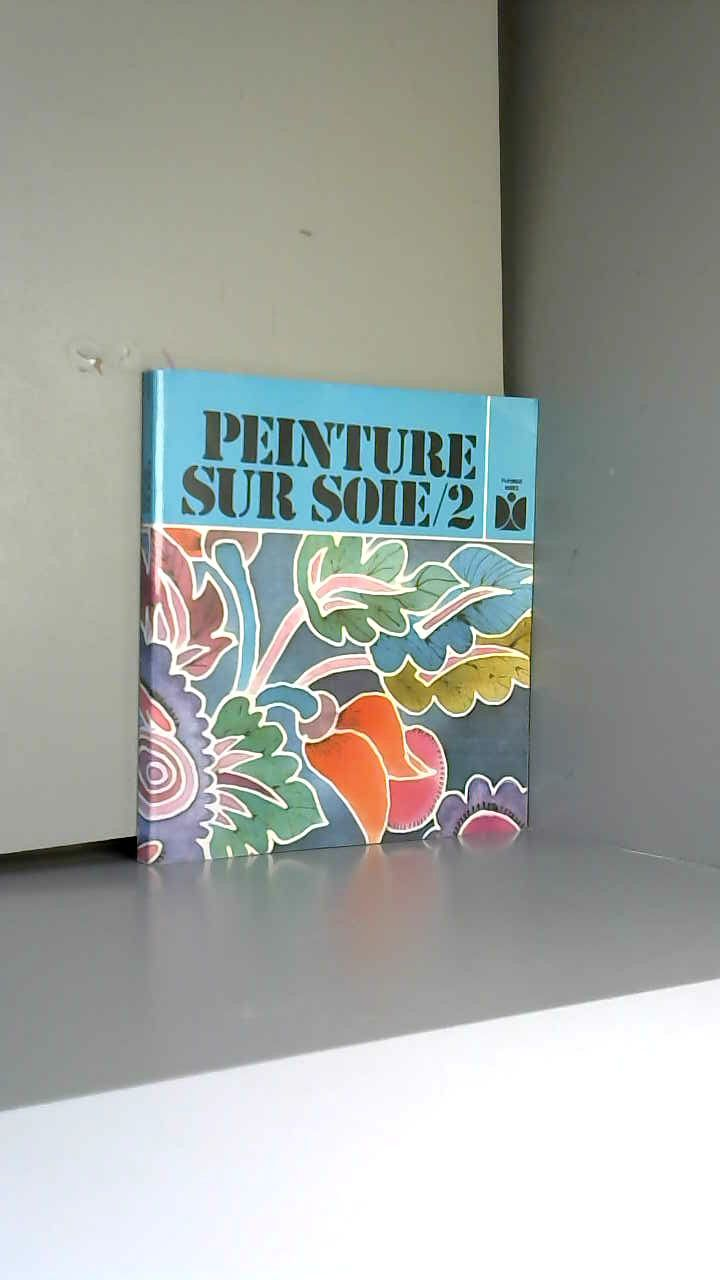book: (106, 331, 569, 887)
